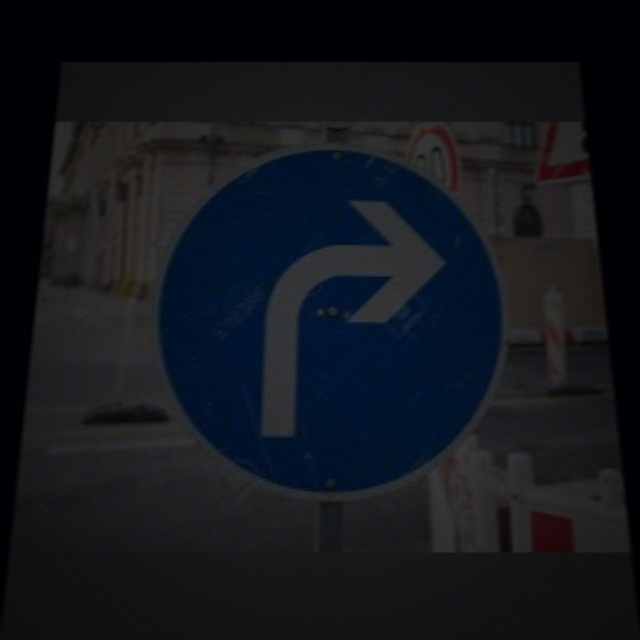Compulsory_Turn_Right_Ahead: (154, 147, 521, 480)
